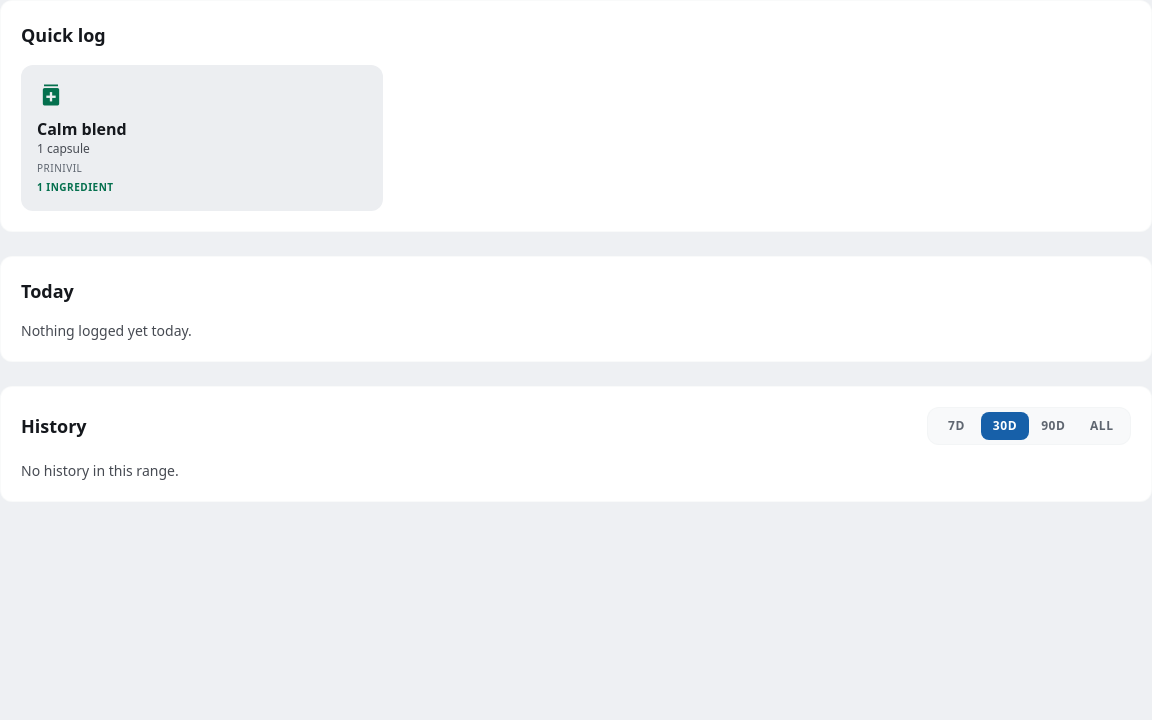
shared intake logging workflow › explains when supplement composition cannot follow a changed unit
The image size is (1152, 720).
Click the button with aria-label "Quick log Calm blend" at (82, 129), box [21,65,383,211]
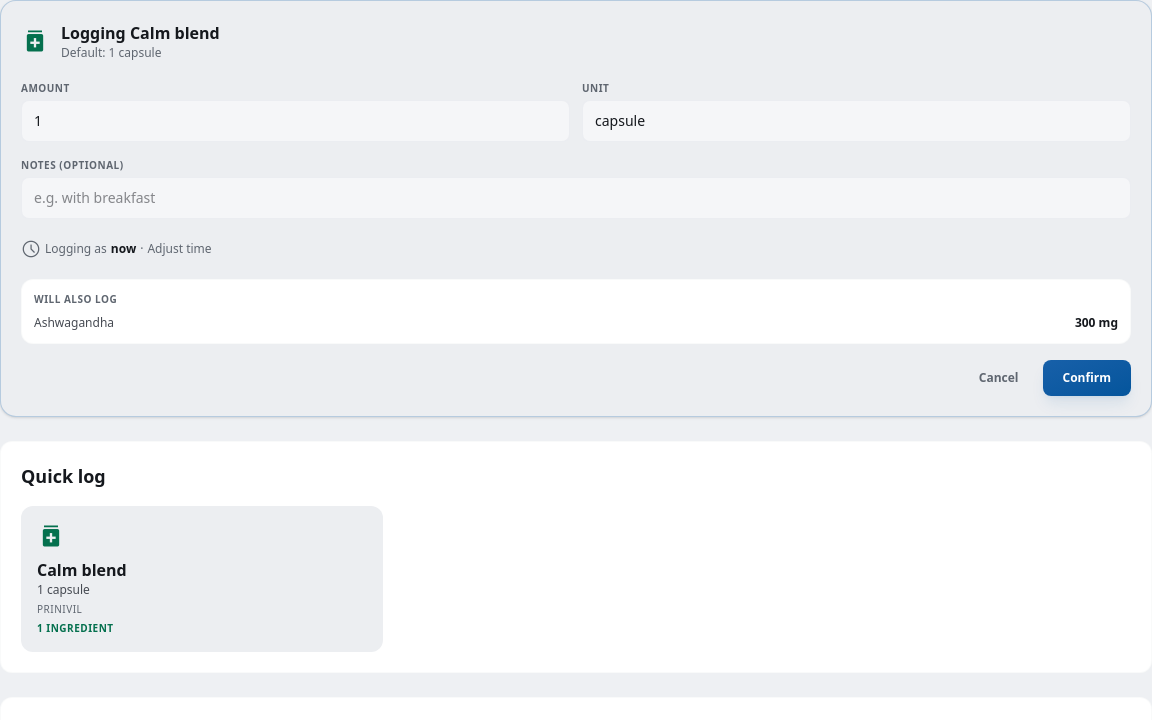
Replace the text in the field labelled "Unit" with "tablet" at (856, 121), box [582,100,1131,142]
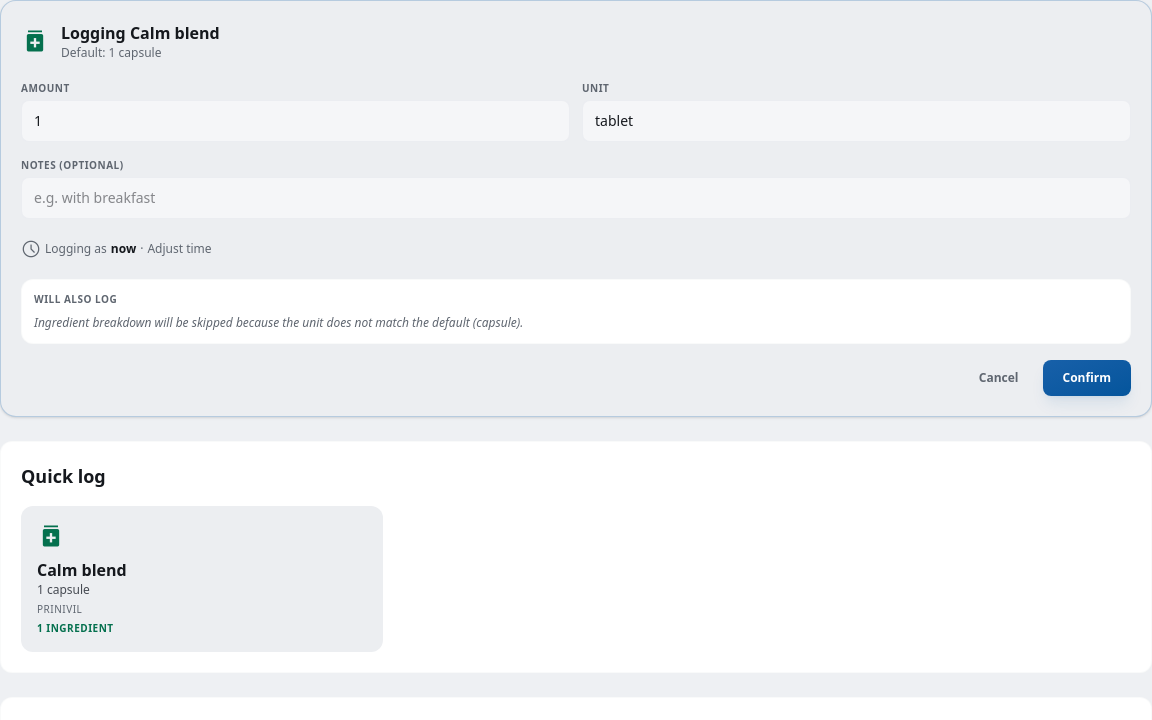
Expected: the text "breakdown will be skipped because the unit does not match" is shown, [34,314,476,331]
